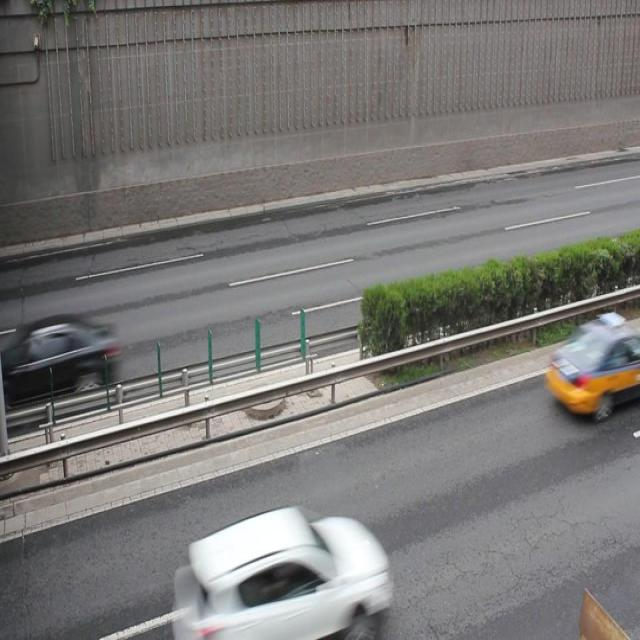car: (169, 505, 386, 640), (544, 315, 640, 419), (13, 313, 118, 408)
